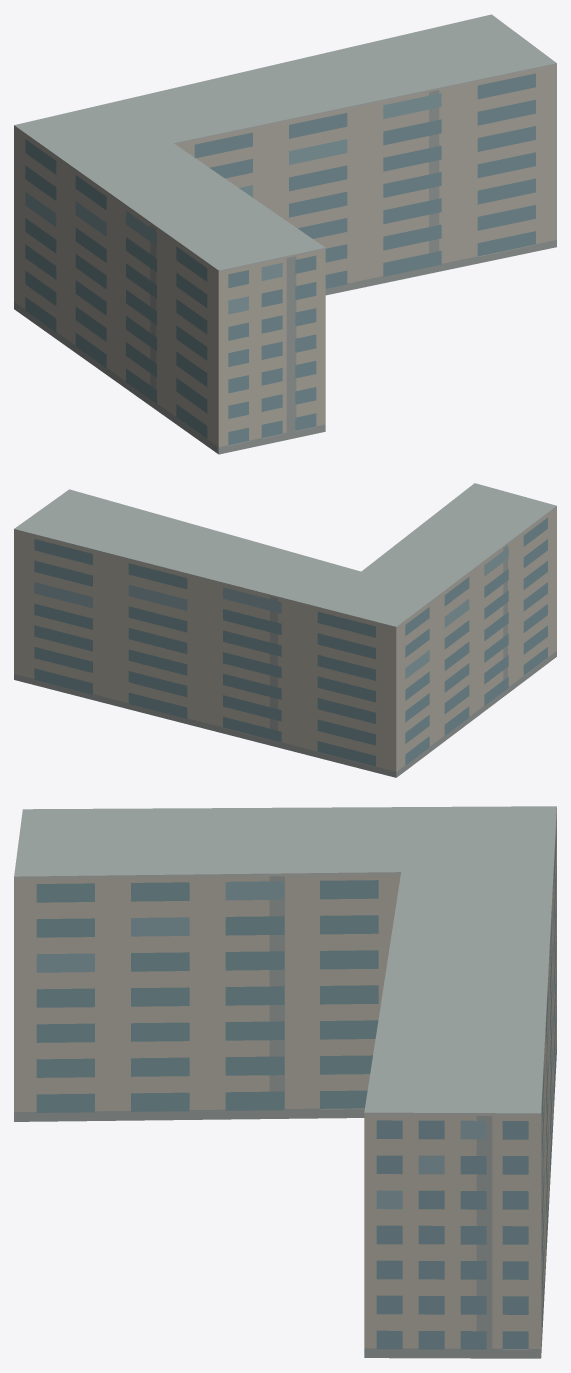
The model's file is residential-30062a79-470a-4d72-8953-154fdf580cc1.glb.
3 views of the same model, one above another, from view 1: azimuth 30°, elevation 25°; view 2: azimuth 150°, elevation 25°; view 3: azimuth 270°, elevation 25° (orthographic). The views are drawn at different scales.
Visible parts, largest first — view 1: residential-30062a79-470a-4d72-8953-154fdf580cc1.tmp; view 2: residential-30062a79-470a-4d72-8953-154fdf580cc1.tmp; view 3: residential-30062a79-470a-4d72-8953-154fdf580cc1.tmp.
Boxes of the visible parts, x1=… form: residential-30062a79-470a-4d72-8953-154fdf580cc1.tmp: x1=14, y1=14, x2=556, y2=454; residential-30062a79-470a-4d72-8953-154fdf580cc1.tmp: x1=14, y1=483, x2=556, y2=777; residential-30062a79-470a-4d72-8953-154fdf580cc1.tmp: x1=14, y1=806, x2=556, y2=1358.
Bounding box in the file's own units: 56.37 × 21 × 42.11.
